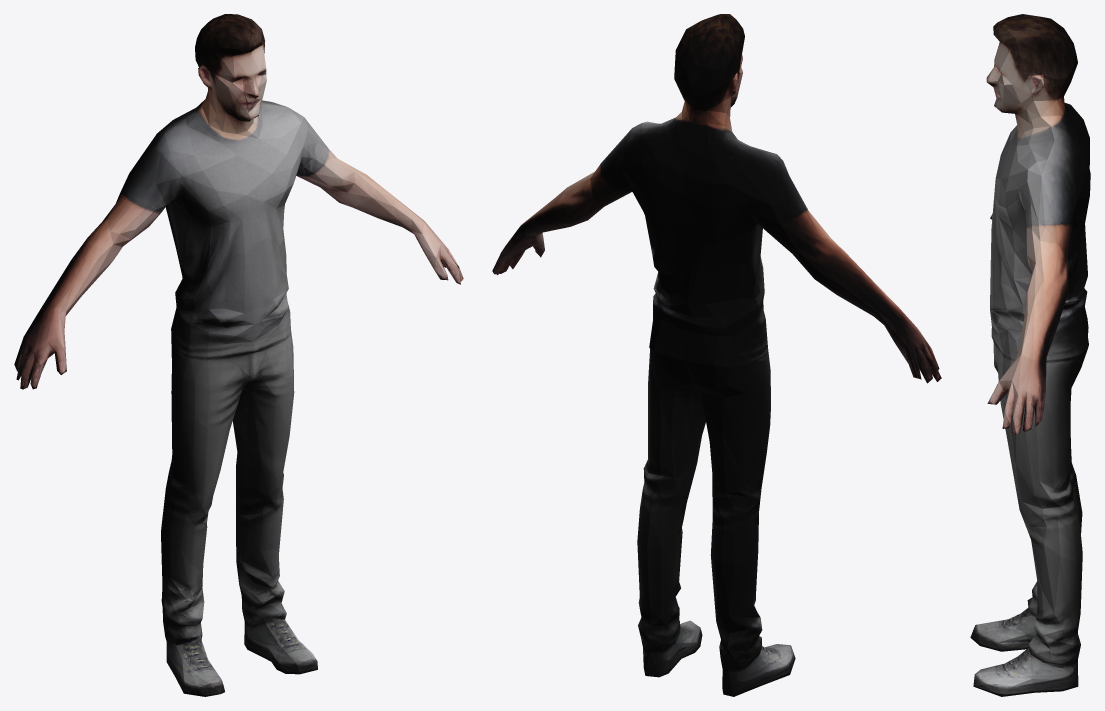
The model's file is trellis_1789475956785_qlpo3.glb.
The picture shows the model from 3 angles, left to right: view 1: azimuth 30°, elevation 25°; view 2: azimuth 150°, elevation 25°; view 3: azimuth 270°, elevation 25°; orthographic projection.
Visible parts, largest first — view 1: world; view 2: world; view 3: world.
Part boxes in pixels (x1,y1,x2,y2): world: (14,14,463,696); world: (492,14,941,696); world: (970,14,1090,696).
Bounding box in the file's own units: 0.7119 × 1 × 0.1683.
Materials: 1 (1 with a texture image).
